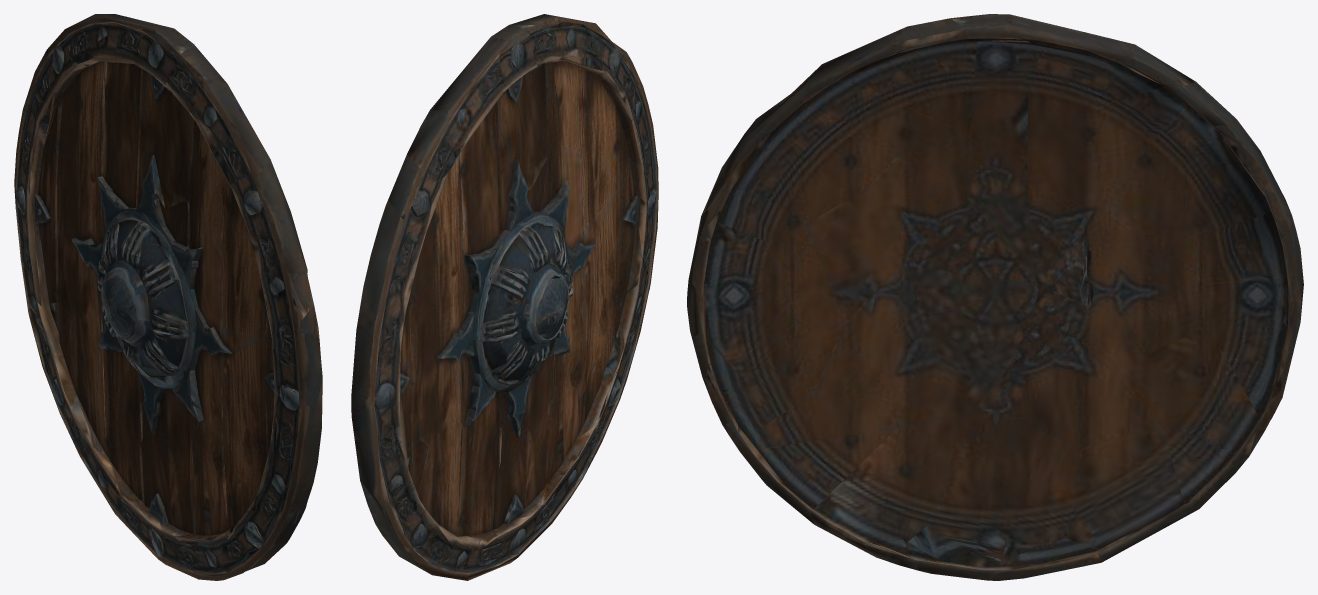
The model's file is shield-round.glb.
The picture shows the model from 3 angles, left to right: view 1: azimuth 30°, elevation 25°; view 2: azimuth 150°, elevation 25°; view 3: azimuth 270°, elevation 25°; orthographic projection. The views are drawn at different scales.
Size of the model in its own units: 0.07 by 0.5003 by 0.4997.
1 material, 1 textured.
